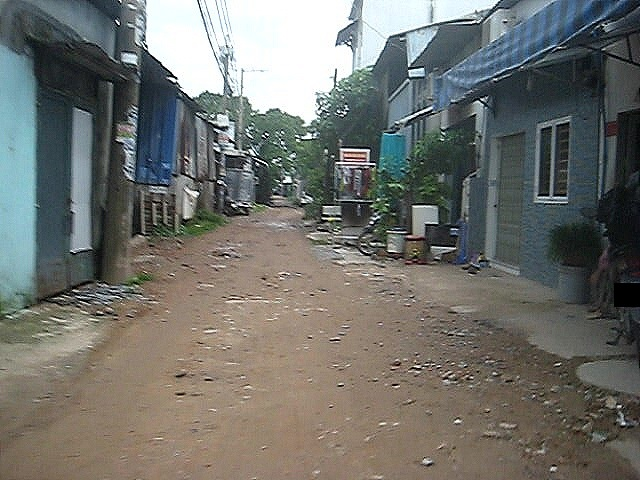hole: (203, 239, 247, 262)
